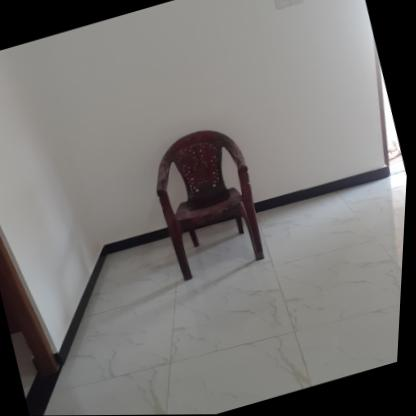Chair: (141, 119, 278, 286)
